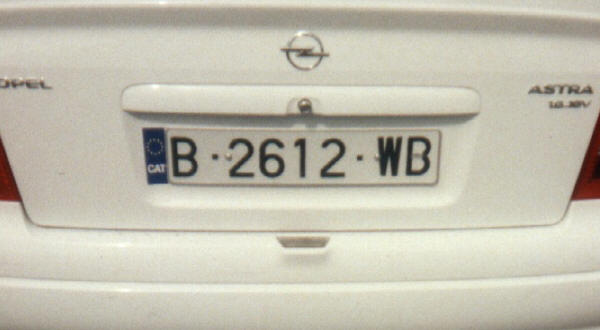license_plate: (166, 128, 442, 187)
